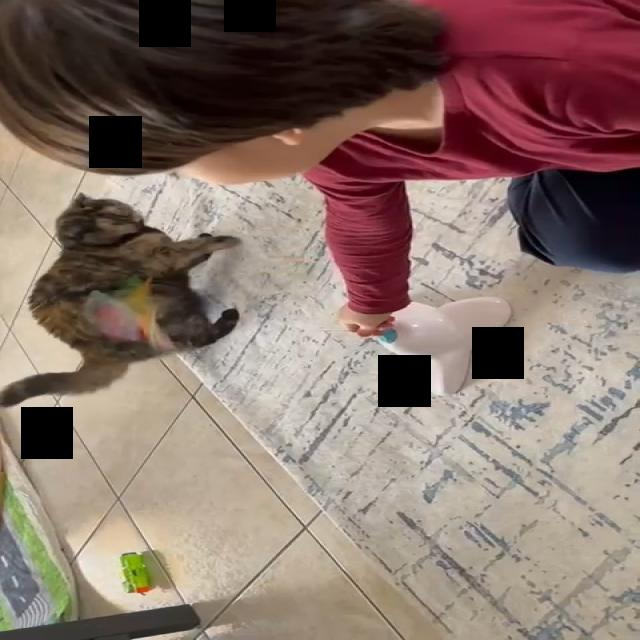authorized: (0, 191, 240, 407)
